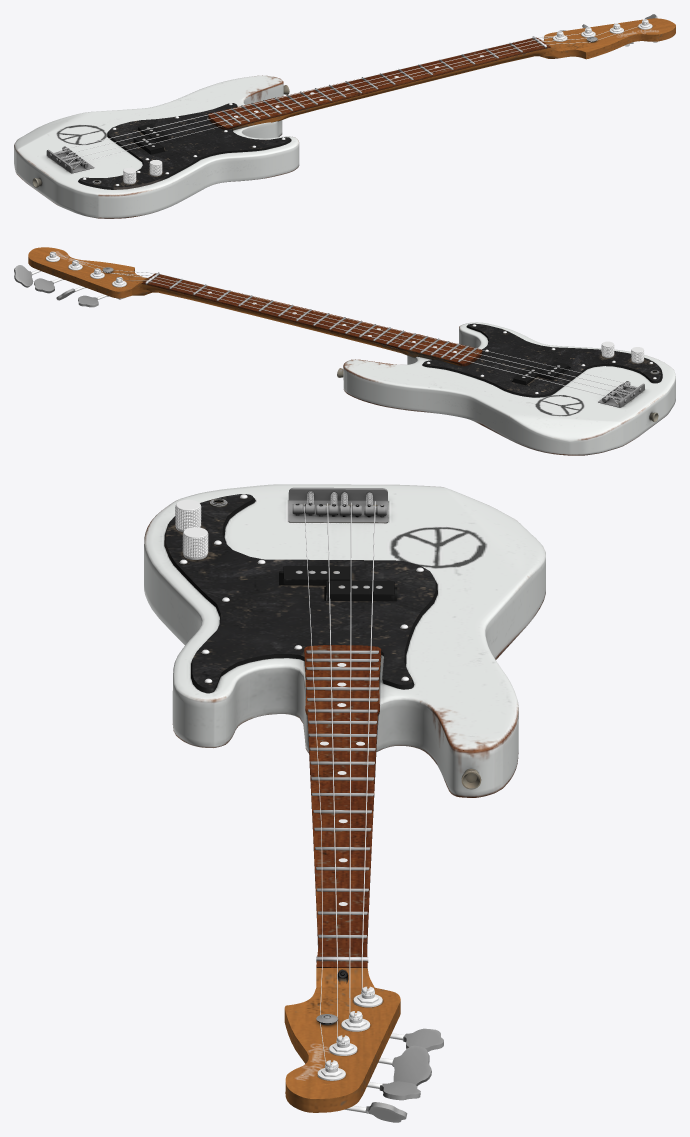
File: percussion_bass_guitar.glb
3 views of the same model, one above another, from view 1: azimuth 30°, elevation 25°; view 2: azimuth 150°, elevation 25°; view 3: azimuth 270°, elevation 25° (orthographic). The views are drawn at different scales.
Parts seen in each view (by area): view 1: Object_6, Object_4, Object_5, Object_3, Object_36, Object_35, Object_30, Object_34, Object_33, Object_7; view 2: Object_6, Object_4, Object_5, Object_3, Object_36, Object_35, Object_34, Object_30, Object_33, Object_7; view 3: Object_6, Object_4, Object_5, Object_3, Object_36, Object_8, Object_34, Object_30, Object_35, Object_11, Object_7, Object_33.
Boxes of the visible parts, left/top/right/bottom form: Object_6: left=14, top=75, right=299, bottom=218; Object_4: left=78, top=103, right=291, bottom=189; Object_5: left=208, top=37, right=550, bottom=129; Object_3: left=208, top=18, right=675, bottom=130; Object_36: left=32, top=36, right=597, bottom=187; Object_35: left=69, top=23, right=623, bottom=163; Object_30: left=59, top=31, right=567, bottom=151; Object_34: left=66, top=27, right=595, bottom=156; Object_33: left=74, top=19, right=652, bottom=168; Object_7: left=133, top=135, right=163, bottom=154; Object_6: left=343, top=322, right=675, bottom=455; Object_4: left=422, top=323, right=662, bottom=397; Object_5: left=141, top=273, right=482, bottom=365; Object_3: left=28, top=247, right=482, bottom=366; Object_36: left=102, top=267, right=659, bottom=422; Object_35: left=68, top=260, right=624, bottom=390; Object_34: left=90, top=268, right=622, bottom=398; Object_30: left=112, top=277, right=617, bottom=403; Object_33: left=46, top=251, right=629, bottom=385; Object_7: left=538, top=361, right=568, bottom=380; Object_6: left=144, top=484, right=545, bottom=797; Object_4: left=164, top=494, right=437, bottom=693; Object_5: left=304, top=645, right=381, bottom=967; Object_3: left=284, top=654, right=400, bottom=1112; Object_36: left=210, top=487, right=481, bottom=1025; Object_8: left=326, top=580, right=394, bottom=601; Object_34: left=341, top=502, right=370, bottom=1031; Object_30: left=353, top=501, right=382, bottom=1007; Object_35: left=327, top=503, right=357, bottom=1055; Object_11: left=392, top=1045, right=431, bottom=1086; Object_7: left=283, top=566, right=351, bottom=589; Object_33: left=304, top=503, right=345, bottom=1080.
Bounding box in the file's own units: 8.37 × 0.4943 × 2.32.
Materials: 35 (14 with a texture image).
